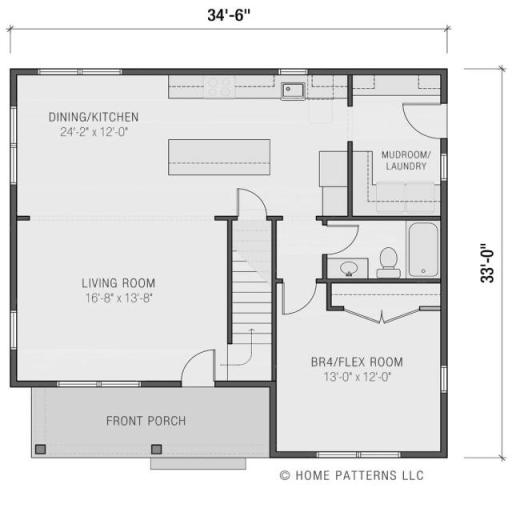Room: (285, 291, 432, 444)
bathroom: (280, 224, 437, 278)
hall: (20, 227, 222, 376)
kitchen: (22, 82, 340, 220)
laundary: (350, 79, 444, 216)
porch: (36, 387, 268, 460)
